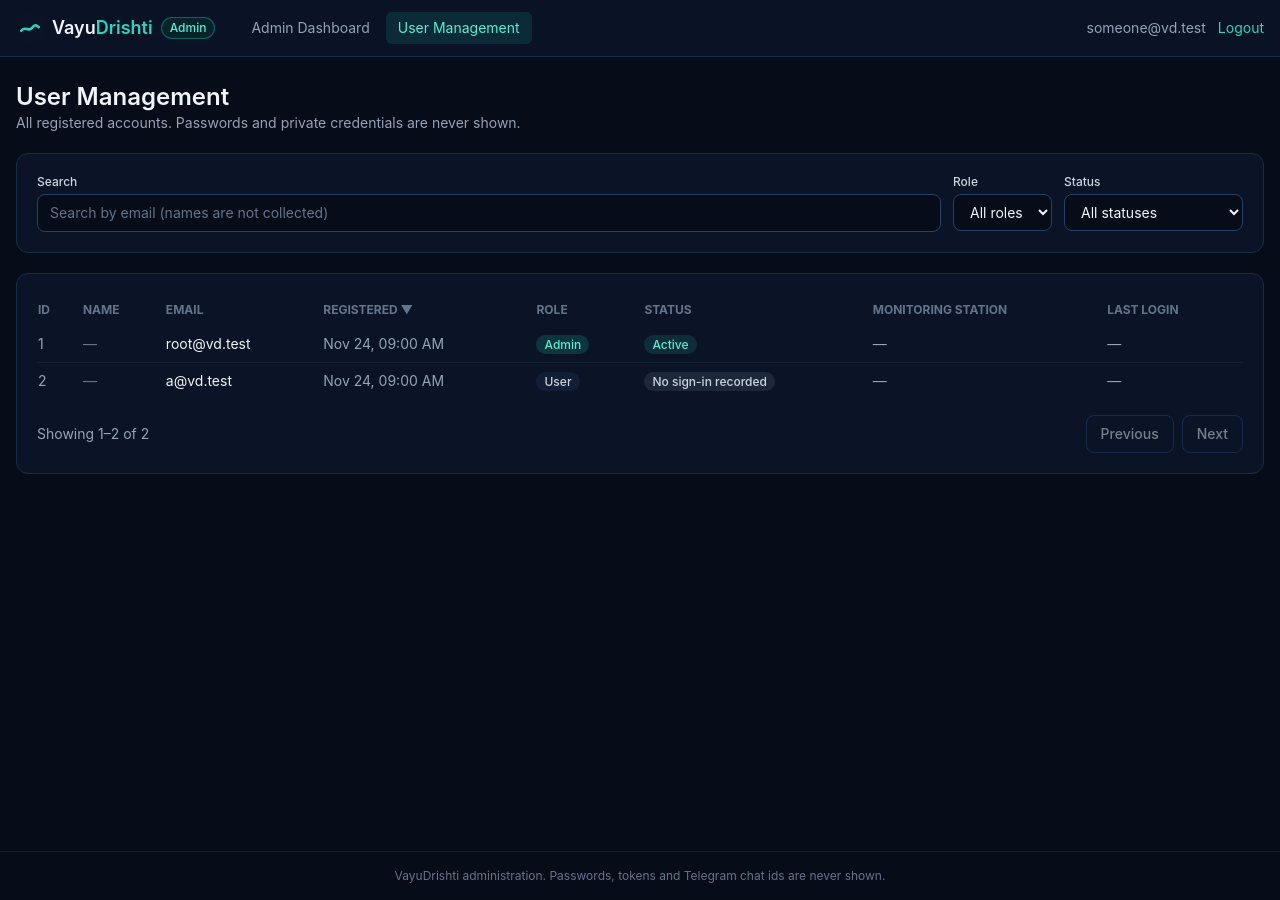
Scenario: user management › opens a user details view
What coordinates should you click on to do the following:
click the link "a@vd.test"
I would click on:
 (199, 380)
Its box is [166,372,232,389].
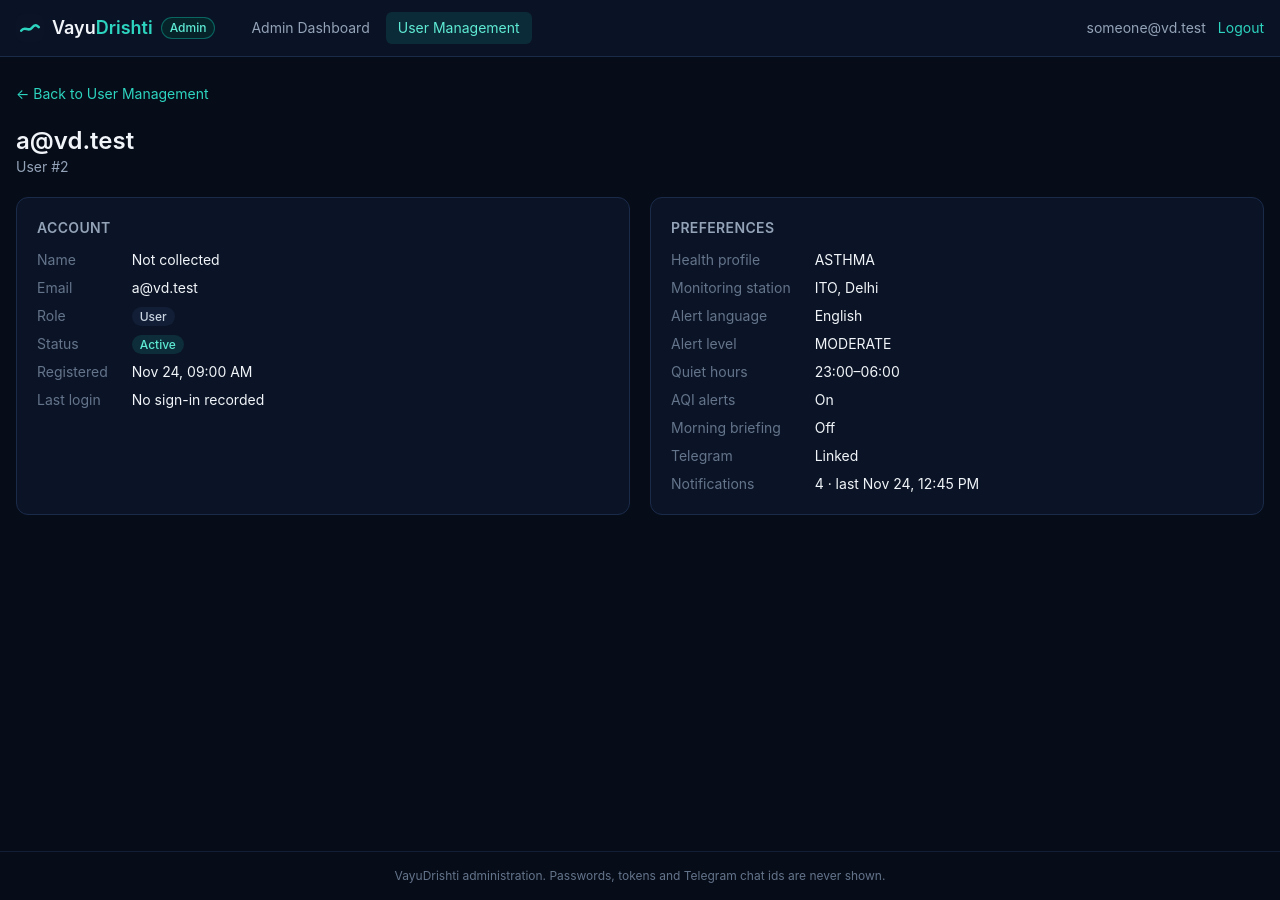
Expected: the heading "a@vd.test" is shown, [16,126,134,155]
Expected: the text "ASTHMA" is shown, [815,251,875,268]
Expected: the text "ITO, Delhi" is shown, [815,279,878,296]
